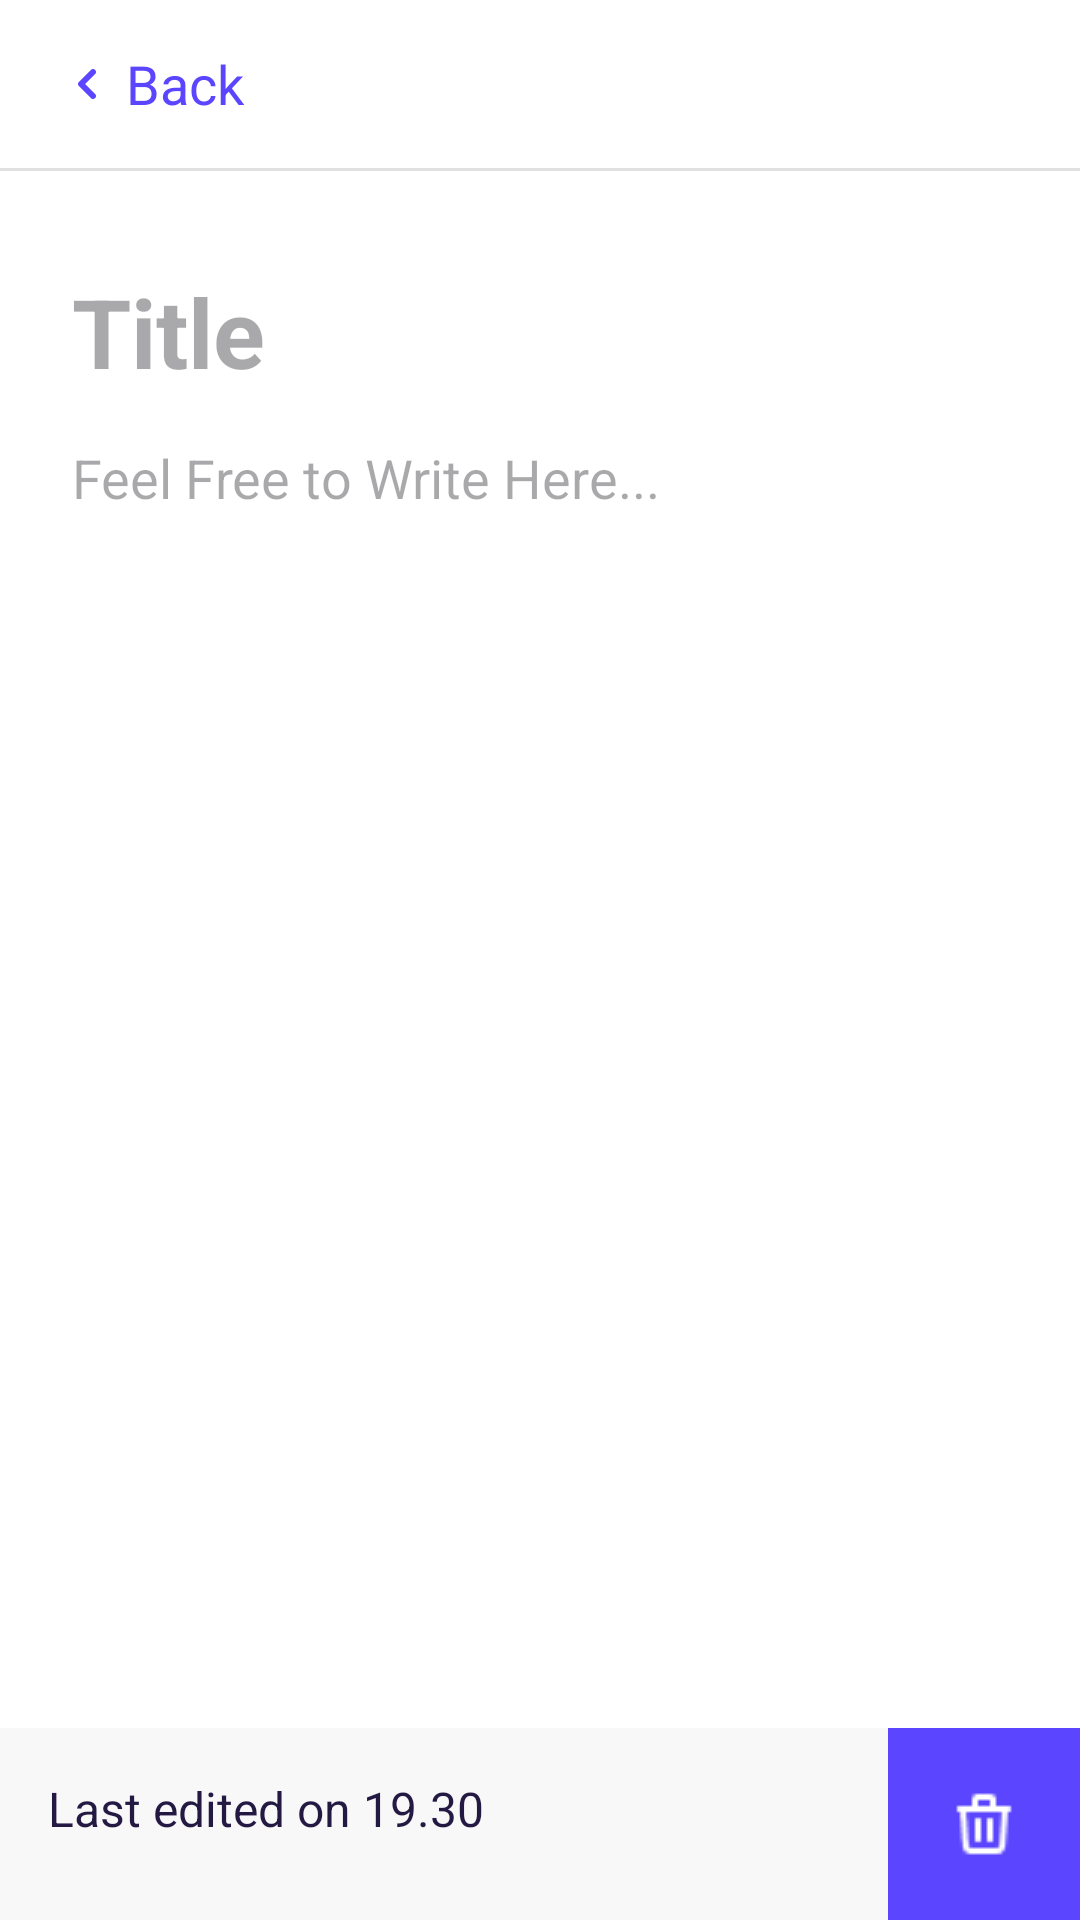

Locate icon controls on the screen. Image size 1080 × 1920, boxes as bbox=(x1, y1, x2, y2).
Delete Note: bbox=(956, 1793, 1012, 1855)
